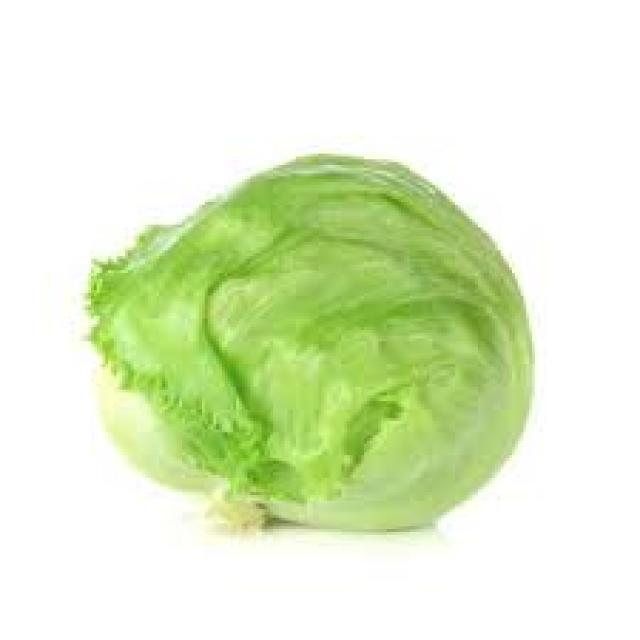Lettuce: (81, 150, 537, 534)
